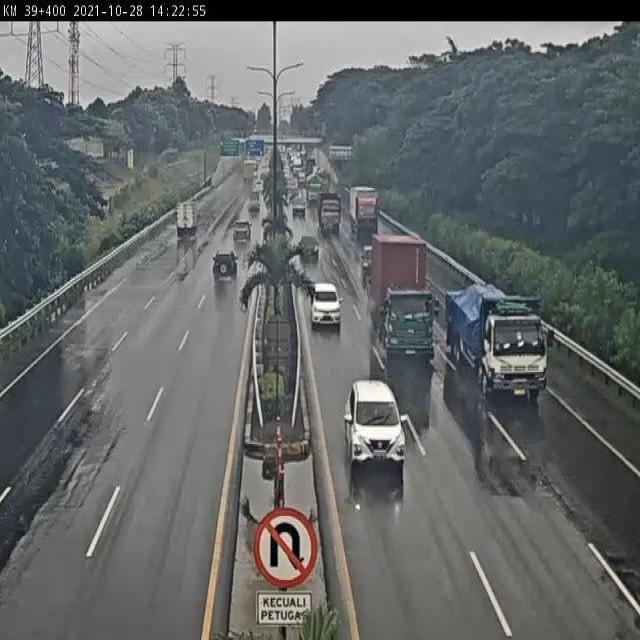car: (213, 246, 239, 278)
truck-l-: (447, 284, 549, 400), (349, 187, 381, 241)
truck-s-: (319, 193, 343, 236)
truck-xl-: (373, 236, 442, 367)
